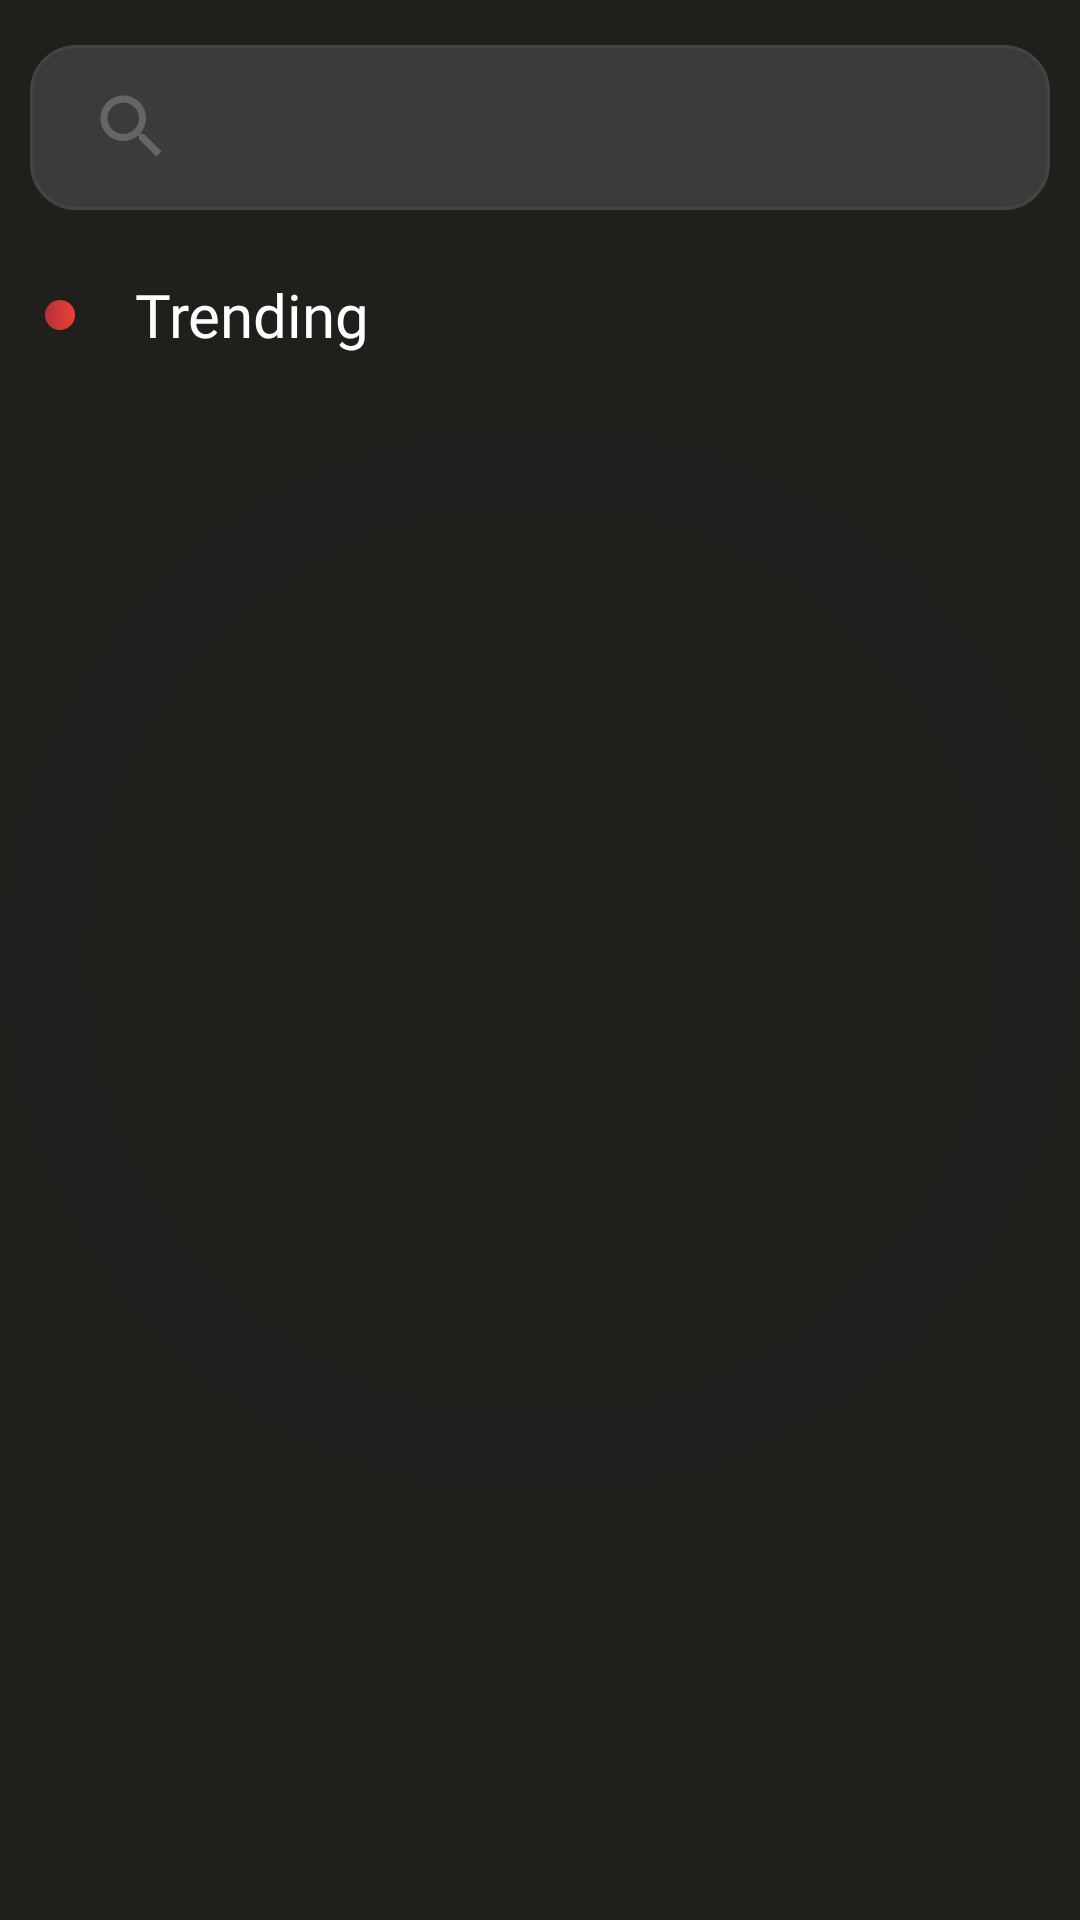

Named icons in this screenshot (1080px×1920px) and their centers, [x,y]:
search: [131,126]
